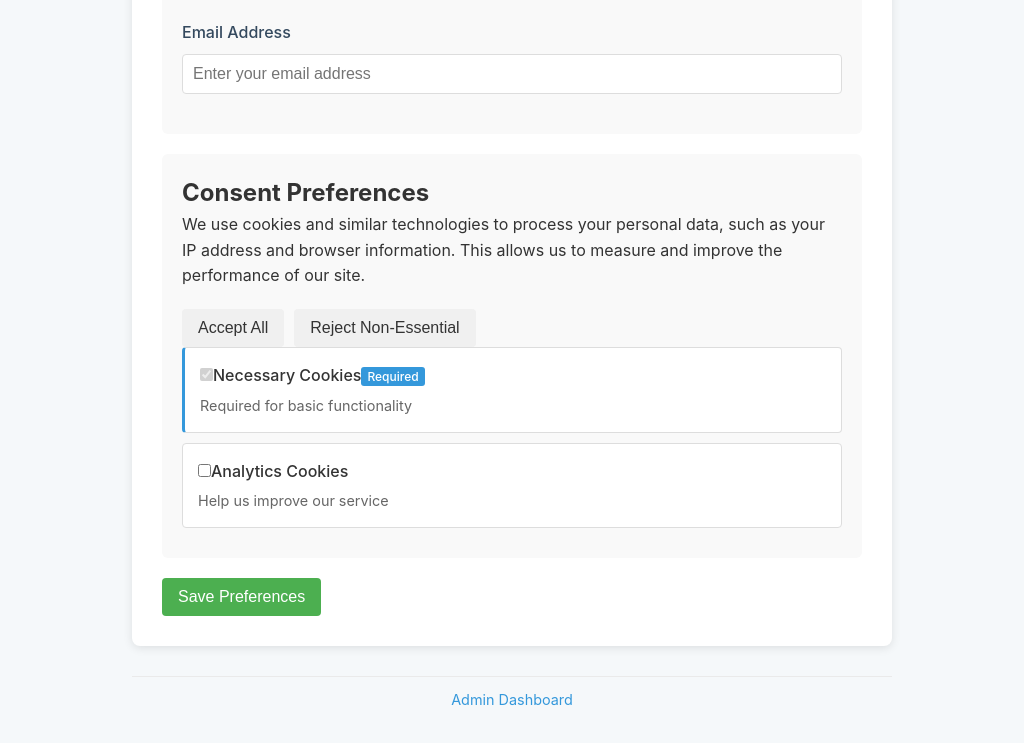
Test: App Component › shows form validation errors for empty required fields
(page scrolled)
Click the button "Save Preferences" at (242, 597), box [162,578,321,616]
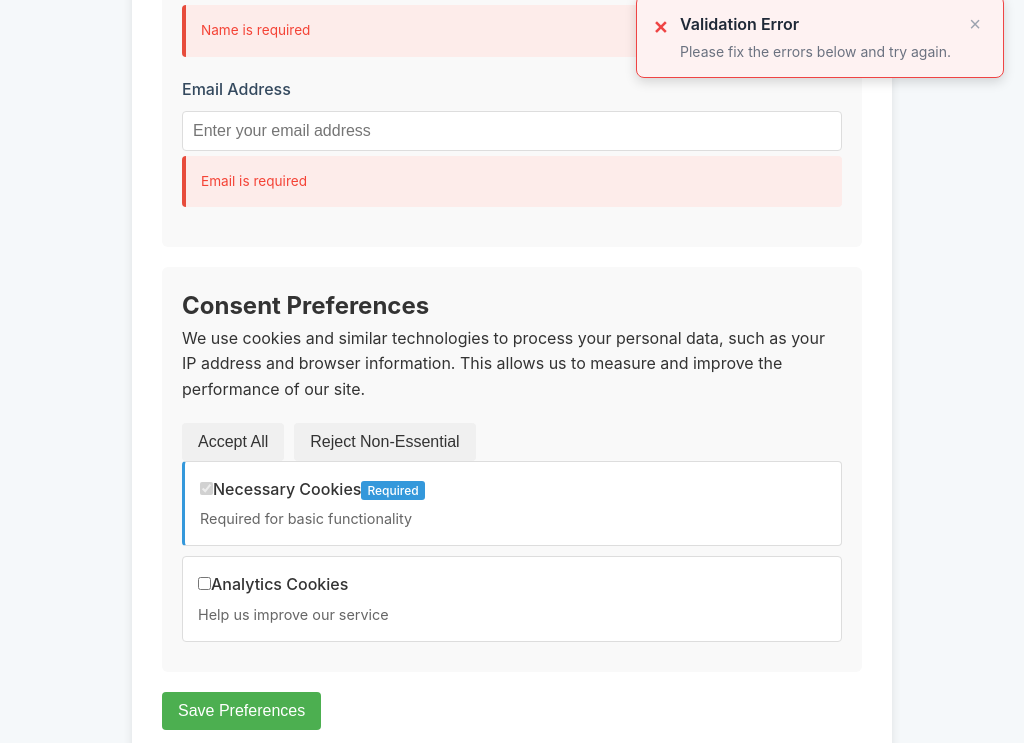
Result: the text "Name is required" is shown at [182,5,842,57]
Result: the text "Email is required" is shown at [182,156,842,208]
